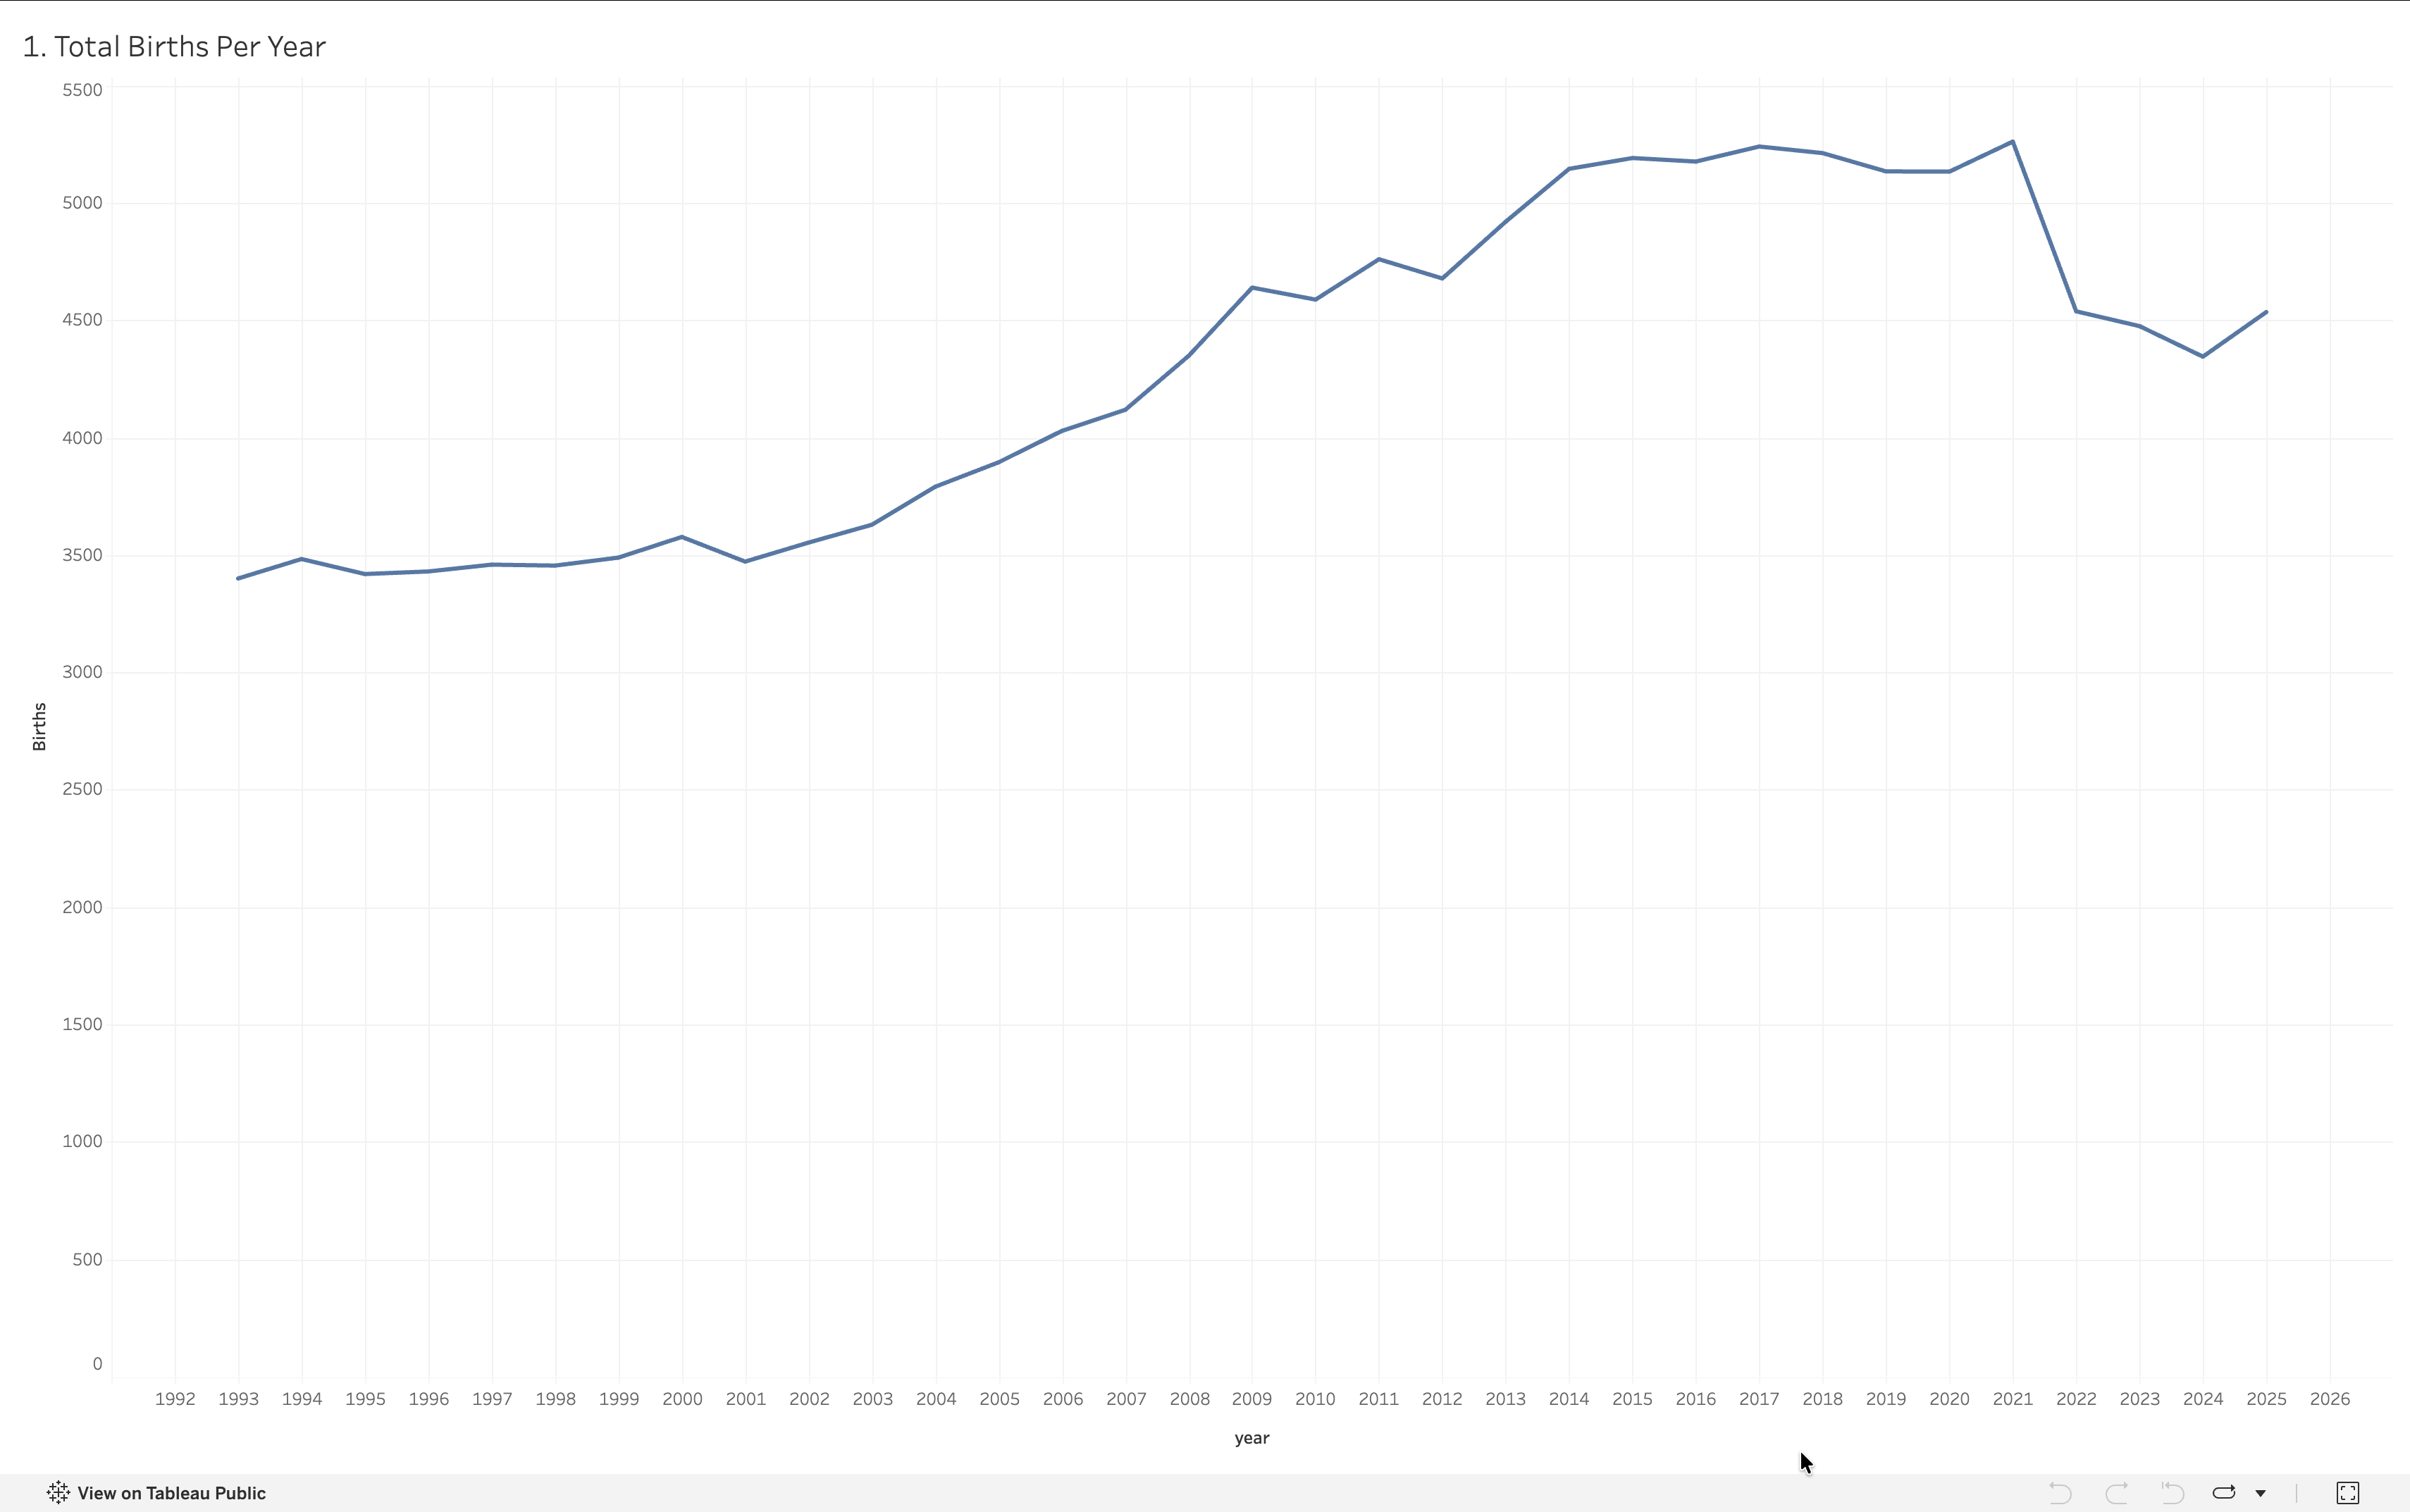

The page's visual inventory and layout, read from the dashboard file:
{"tool":"tableau","page":{"name":"Stadt Zurich Births: Analysis 1","canvas":[1000,1000],"units":"permille","ordinal":0},"visuals":[{"type":"worksheet","title":"1. Total Births Per Year","mark":"Line","rows":["births"],"cols":["year"],"box":[5.3,9,989.3,982]}]}

Visuals, with their boxes on the dashboard's canvas, which has no fixed pixel size, in thousandths of its width and height (x1, y1, x2, y2). These are canvas units, not pixel positions in the 2410x1512 screenshot, which may show the page scaled, cropped or inside an application window:
"1. Total Births Per Year" worksheet (Line marks): detection(5, 9, 995, 991)
